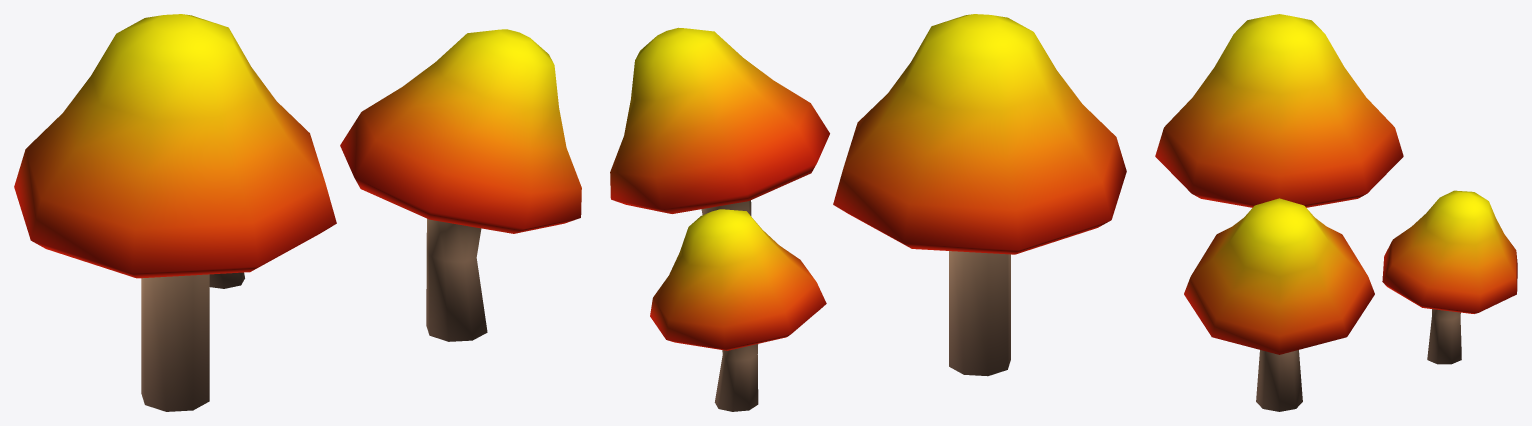
File: VEG0110015.fbx
3 renders of one model, left to right at view 1: azimuth 30°, elevation 25°; view 2: azimuth 150°, elevation 25°; view 3: azimuth 270°, elevation 25°, orthographic. The views are drawn at different scales.
Visible parts, largest first — view 1: smVEG0110015; view 2: smVEG0110015; view 3: smVEG0110015.
Boxes of the visible parts, x1,y1,x2,y2 form: smVEG0110015: (14, 14, 581, 411); smVEG0110015: (610, 14, 1126, 411); smVEG0110015: (1155, 14, 1517, 411).
Size of the model in its own units: 31 by 20.72 by 24.38.
Materials: 1 (1 with a texture image).
